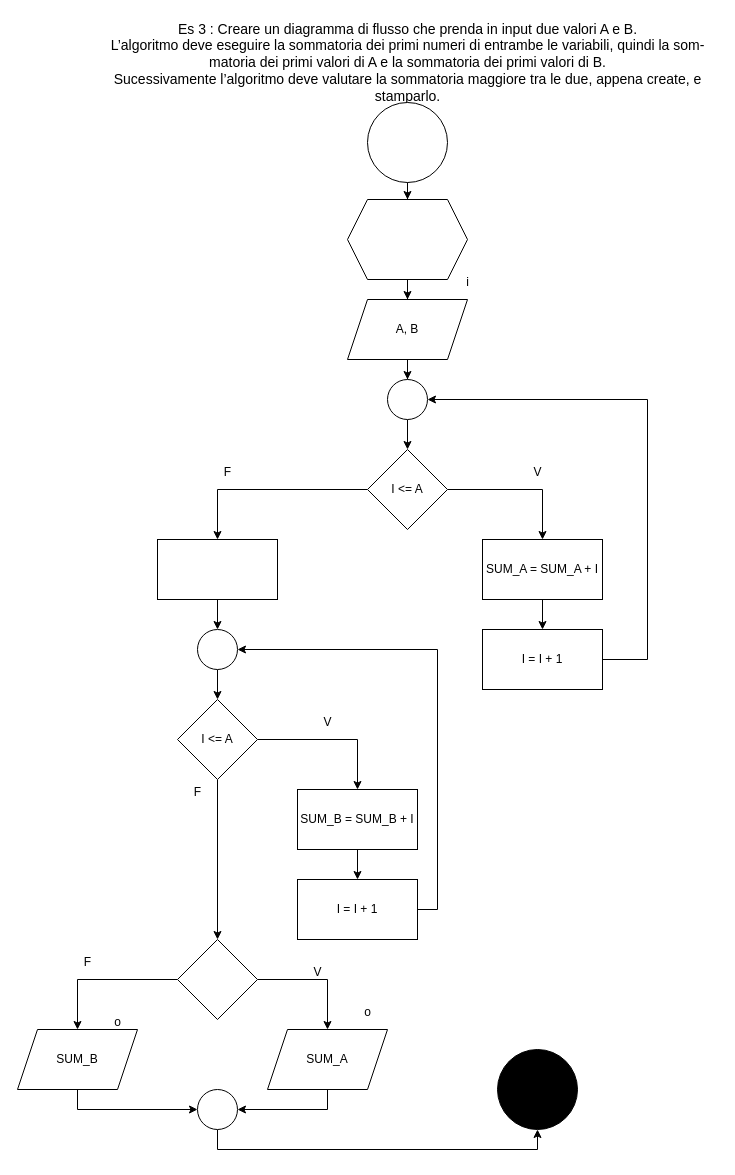
This 735x1175 diagram has some shape labels left out. Here are the shapes that lost their labels. From the top down, the centre of each, then its label:
At (407,239): "A, B, SUM_A = 0, SUM_B = 0, I = 1".
At (217,569): "I = 1".
At (217,979): "SUM_A >= SUM_B".
